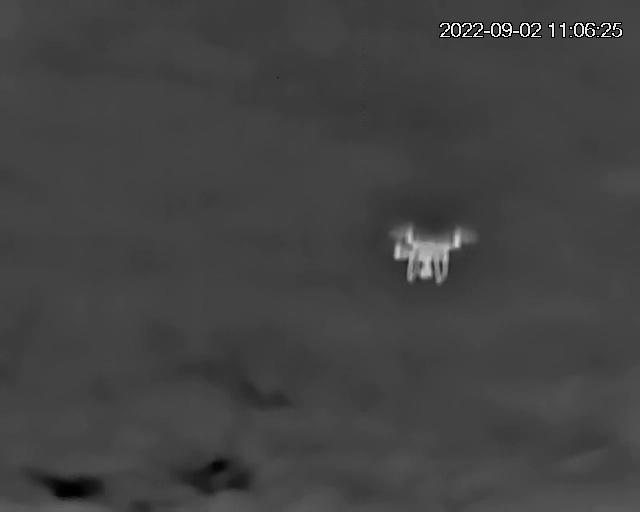DJI-Phantom: (391, 226, 473, 282)
